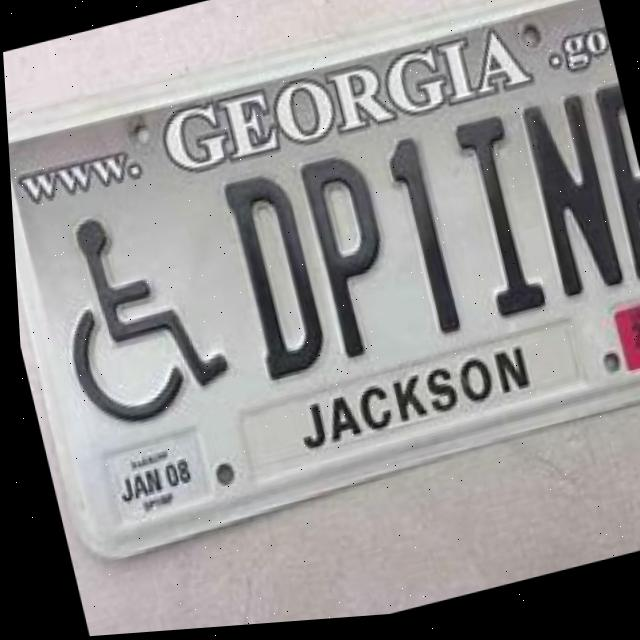symbol_of_access: (34, 191, 234, 441)
